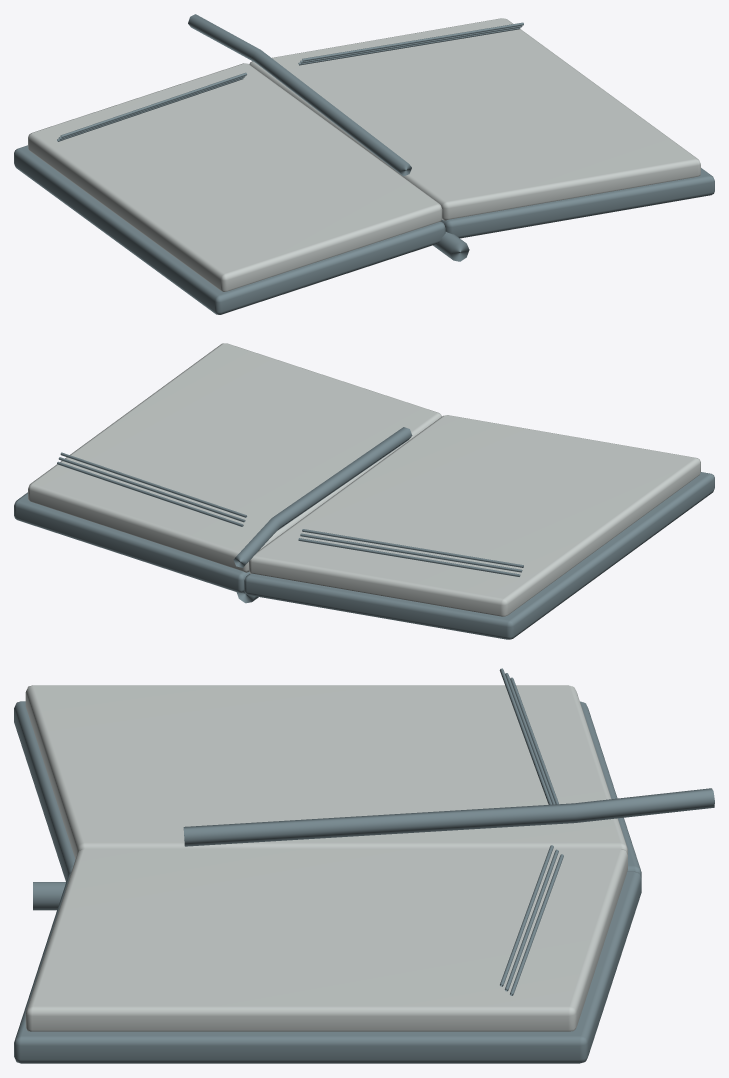
The model's file is book.glb.
The picture shows the model from 3 angles, top to bottom: view 1: azimuth 30°, elevation 25°; view 2: azimuth 150°, elevation 25°; view 3: azimuth 270°, elevation 25°; orthographic projection. The views are drawn at different scales.
Parts seen in each view (by area): view 1: page_block_1, page_block_-1, cover_1, cover_-1, bookmark, page_edge_-1_2, page_edge_1_2, spine, page_edge_-1_0, page_edge_-1_1; view 2: page_block_1, page_block_-1, cover_1, cover_-1, bookmark, page_edge_1_0, page_edge_1_1, page_edge_1_2, page_edge_-1_0, page_edge_-1_1, page_edge_-1_2; view 3: page_block_-1, page_block_1, cover_-1, bookmark, cover_1, spine, page_edge_-1_2, page_edge_-1_0, page_edge_-1_1, page_edge_1_2.
Boxes of the visible parts, left/top/right/bottom form: page_block_1: left=28, top=63, right=442, bottom=291; page_block_-1: left=249, top=18, right=700, bottom=220; cover_1: left=14, top=145, right=445, bottom=314; cover_-1: left=441, top=168, right=714, bottom=238; bookmark: left=188, top=14, right=411, bottom=176; page_edge_-1_2: left=302, top=22, right=523, bottom=61; page_edge_1_2: left=60, top=72, right=246, bottom=137; spine: left=433, top=232, right=469, bottom=261; page_edge_-1_0: left=298, top=27, right=520, bottom=65; page_edge_-1_1: left=300, top=25, right=522, bottom=63; page_block_1: left=249, top=415, right=700, bottom=616; page_block_-1: left=28, top=343, right=441, bottom=572; cover_1: left=244, top=472, right=714, bottom=639; cover_-1: left=14, top=492, right=249, bottom=592; bookmark: left=233, top=427, right=412, bottom=567; page_edge_1_0: left=298, top=538, right=520, bottom=576; page_edge_1_1: left=300, top=533, right=522, bottom=572; page_edge_1_2: left=302, top=529, right=523, bottom=567; page_edge_-1_0: left=57, top=461, right=243, bottom=526; page_edge_-1_1: left=58, top=457, right=245, bottom=522; page_edge_-1_2: left=60, top=452, right=246, bottom=517; page_block_-1: left=25, top=849, right=627, bottom=1031; page_block_1: left=25, top=685, right=627, bottom=859; cover_-1: left=14, top=871, right=641, bottom=1063; bookmark: left=183, top=788, right=714, bottom=846; cover_1: left=14, top=701, right=641, bottom=881; spine: left=33, top=882, right=65, bottom=910; page_edge_-1_2: left=500, top=845, right=553, bottom=986; page_edge_-1_0: left=510, top=854, right=563, bottom=995; page_edge_-1_1: left=504, top=849, right=558, bottom=991; page_edge_1_2: left=499, top=668, right=552, bottom=804.
Bounding box in the file's own units: 0.32 × 0.0457 × 0.2783.
